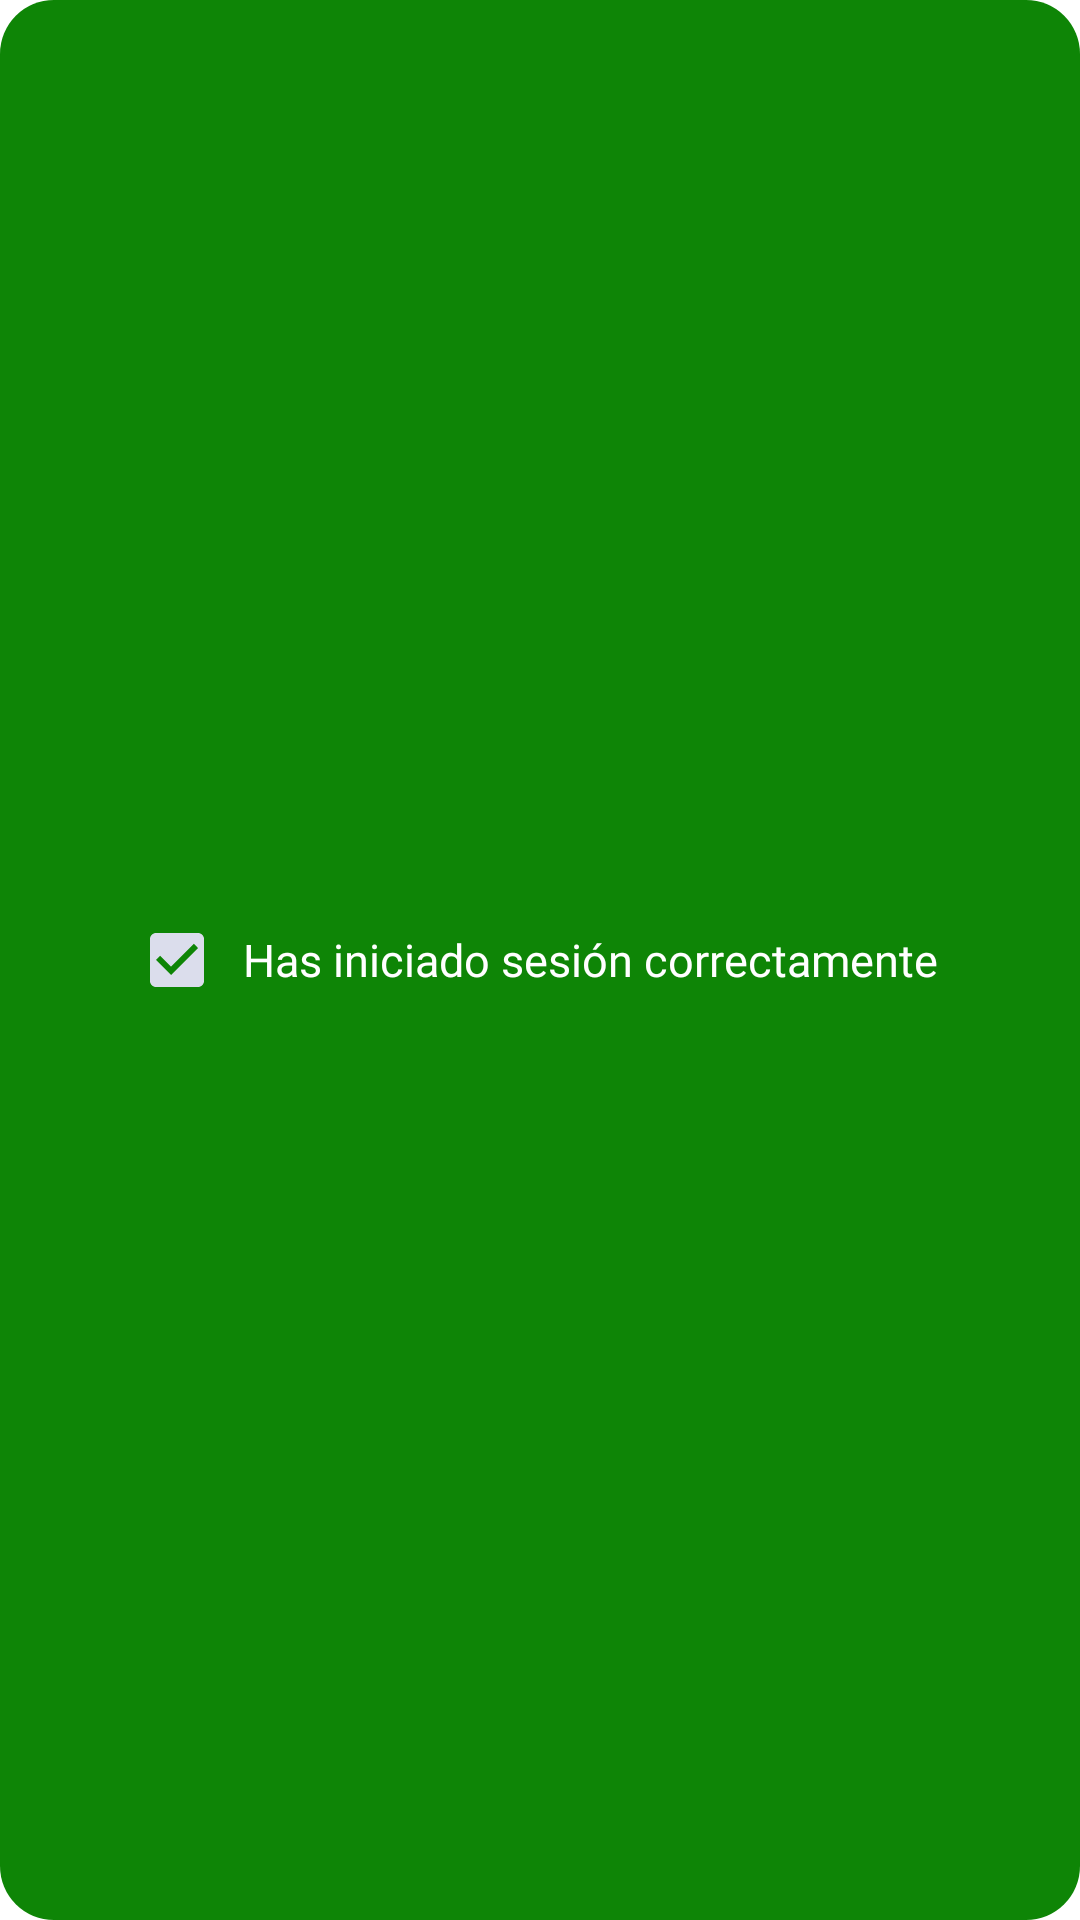

Named icons in this screenshot (1080x1920) and their bounding boxes, (x1,y1,x2,y2):
check box: (150,933,204,987)
